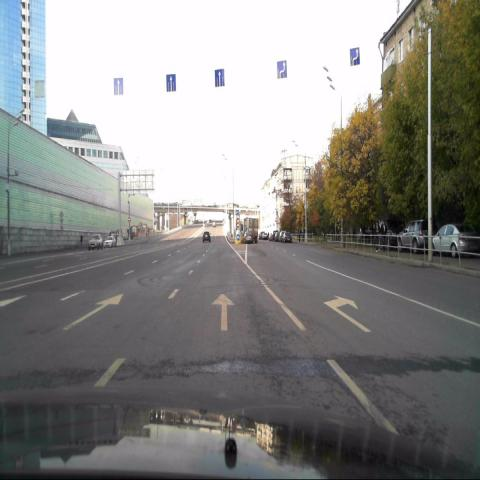5_15_2: (350, 46, 360, 67), (113, 77, 124, 96), (166, 72, 176, 92), (276, 60, 286, 80), (215, 67, 225, 86)
